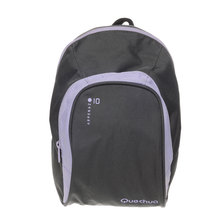bag: (49, 15, 183, 208)
